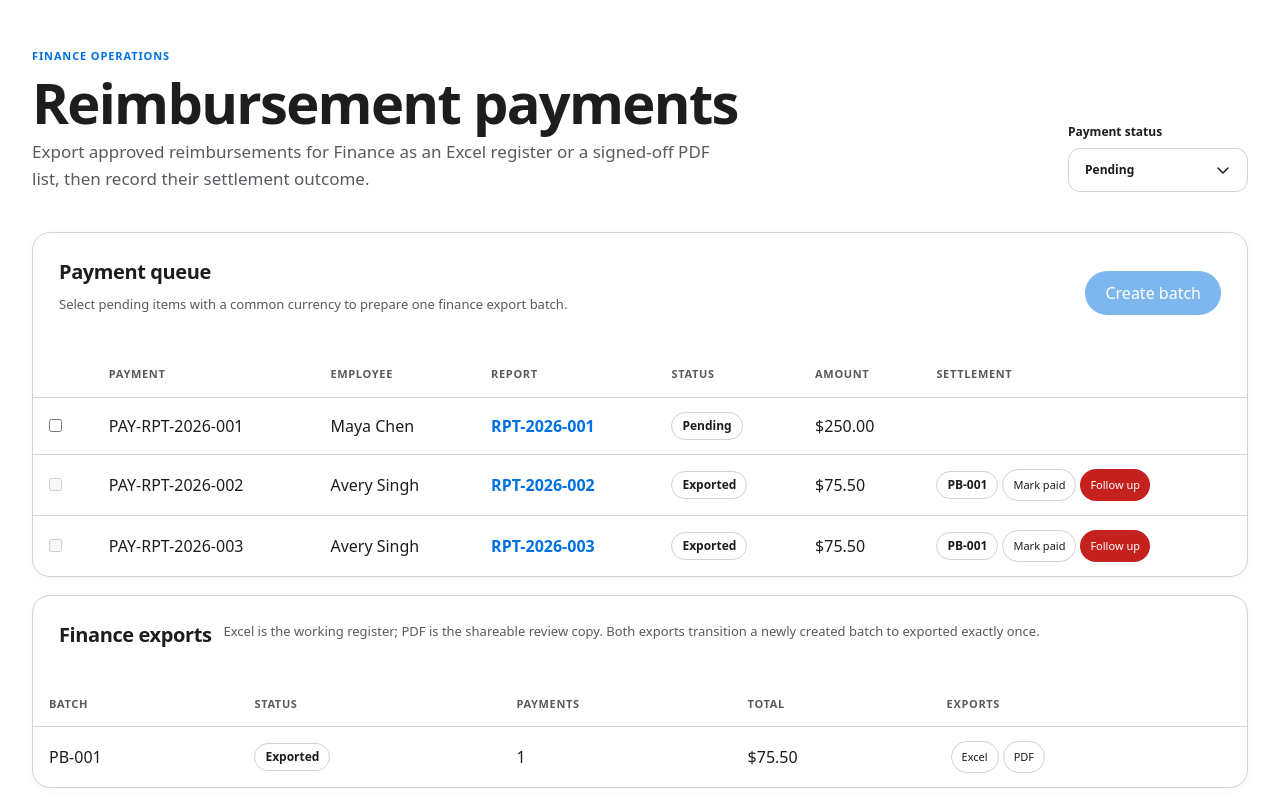
Test: PaymentsPage › keeps the payment dialog open and displays a safe mutation error
Check: the text "PAY-RPT-2026-002" is shown, box [93,454,314,516]
Click the button "Mark paid" in the row of "PAY-RPT-2026-002": (1039,485) [1002,469,1076,501]
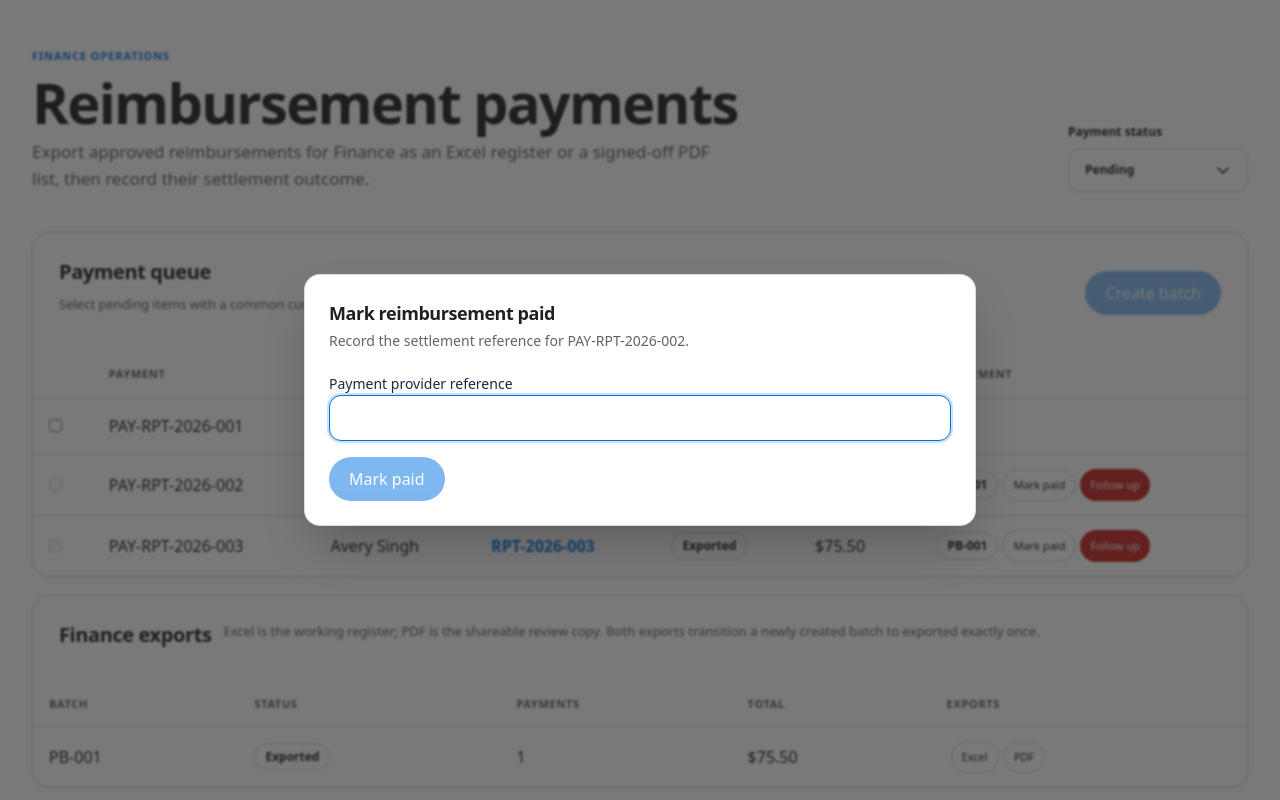
In the field labelled "Payment provider reference": (640,418) [329,395,951,441], type "PROV-UNAVAILABLE"
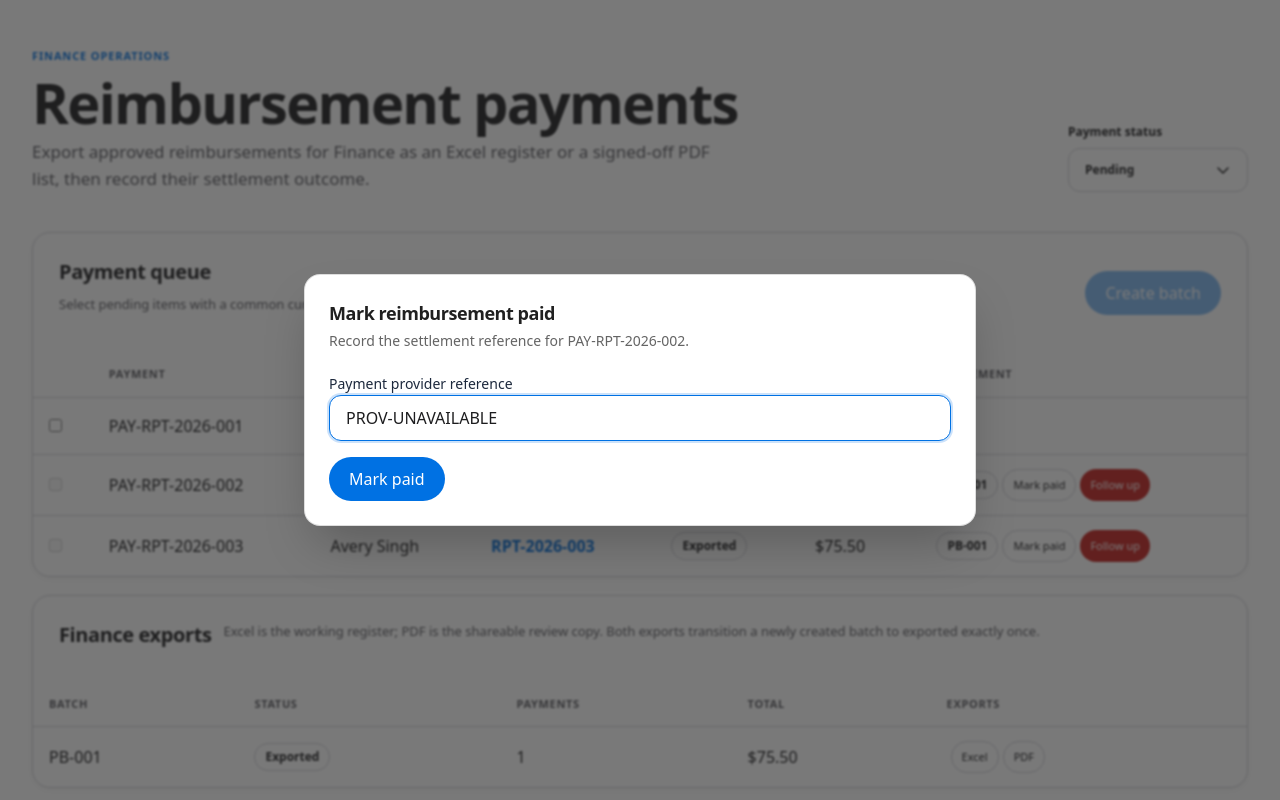
Click the button "Mark paid": (387,479) [329,457,445,501]
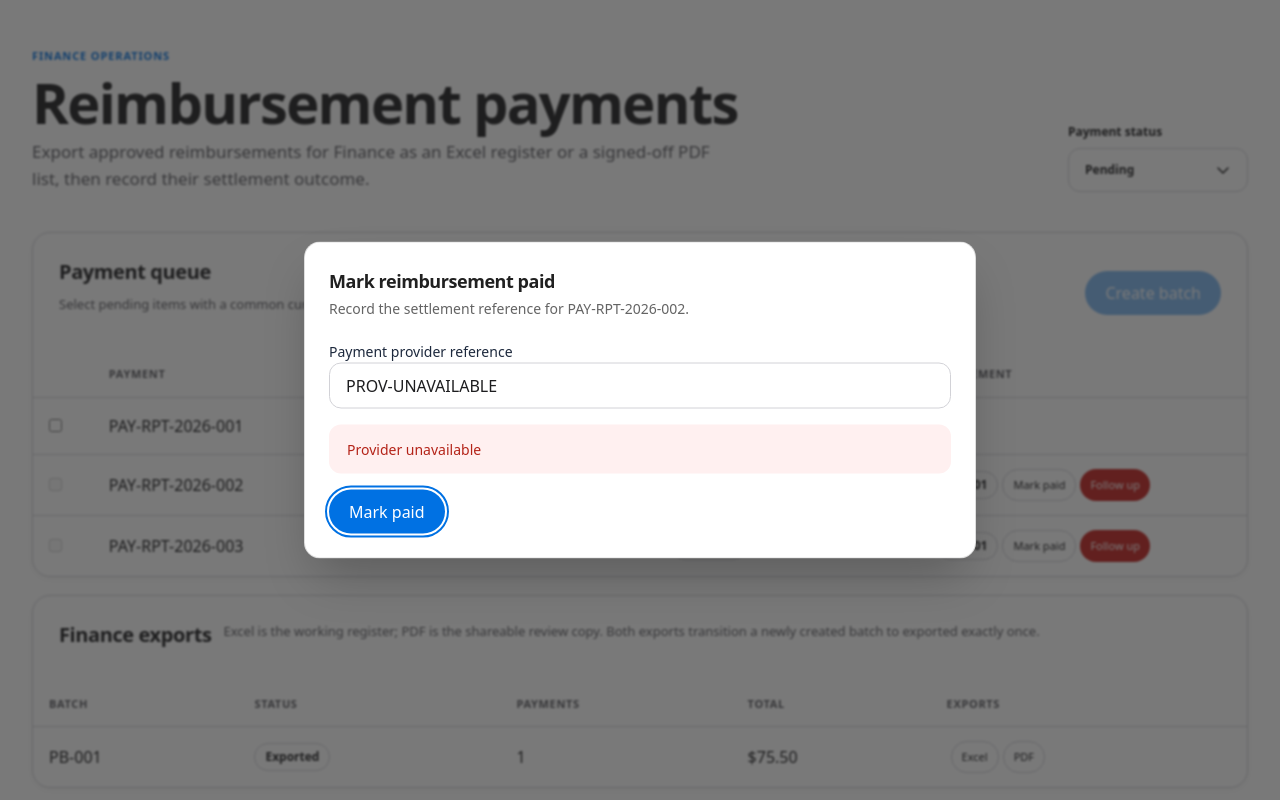
Check: the message reads "Provider unavailable", box [347,440,481,458]
